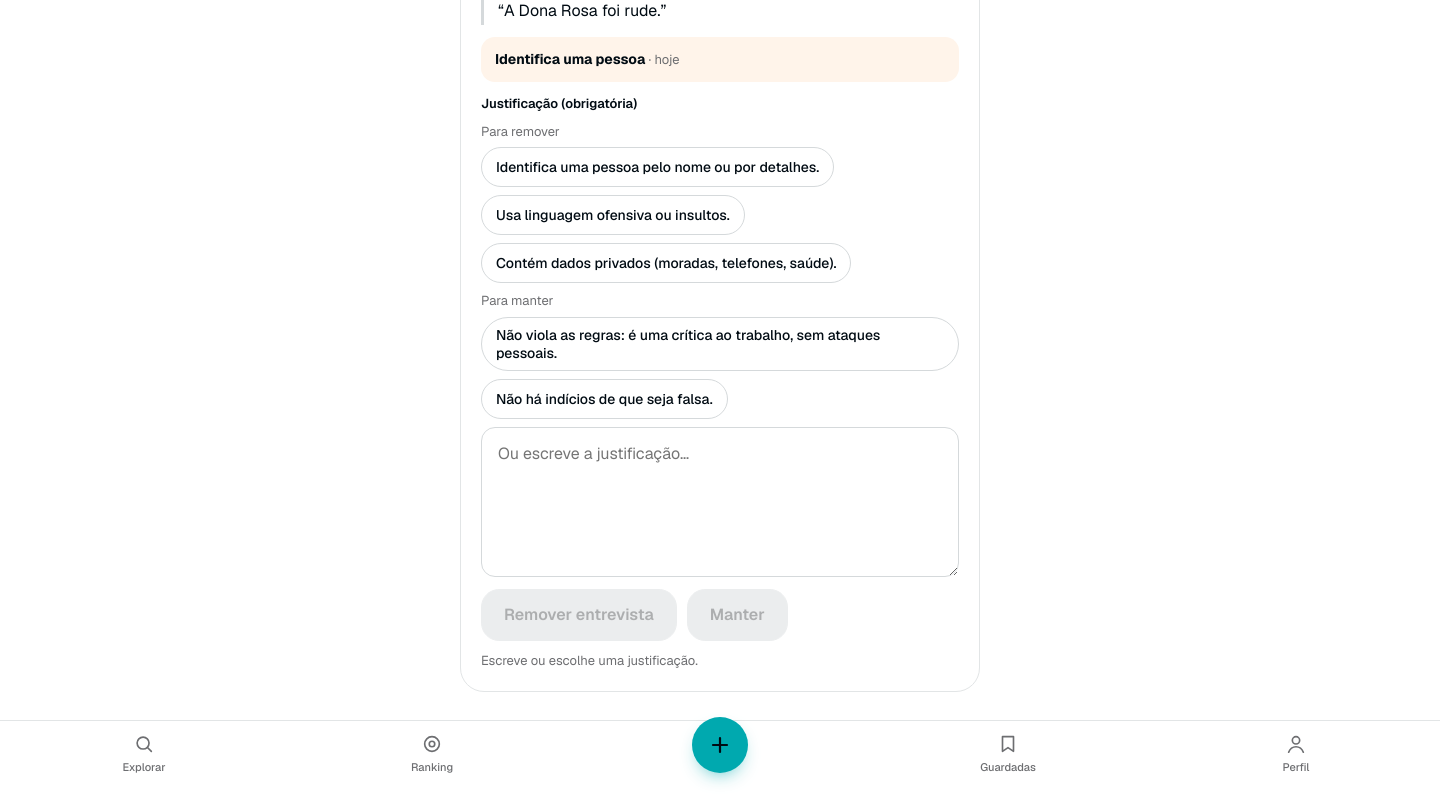
Test: Moderação, modo API (mobile) › entrevistas denunciadas: com a função, e a decisão vai para a entrevista
(page scrolled)
Type "Identifica uma pessoa pelo nome." into the text box.
click(720, 502); type("Identifica uma pessoa pelo nome.")  # box x1=481 y1=427 x2=959 y2=577
(page scrolled)
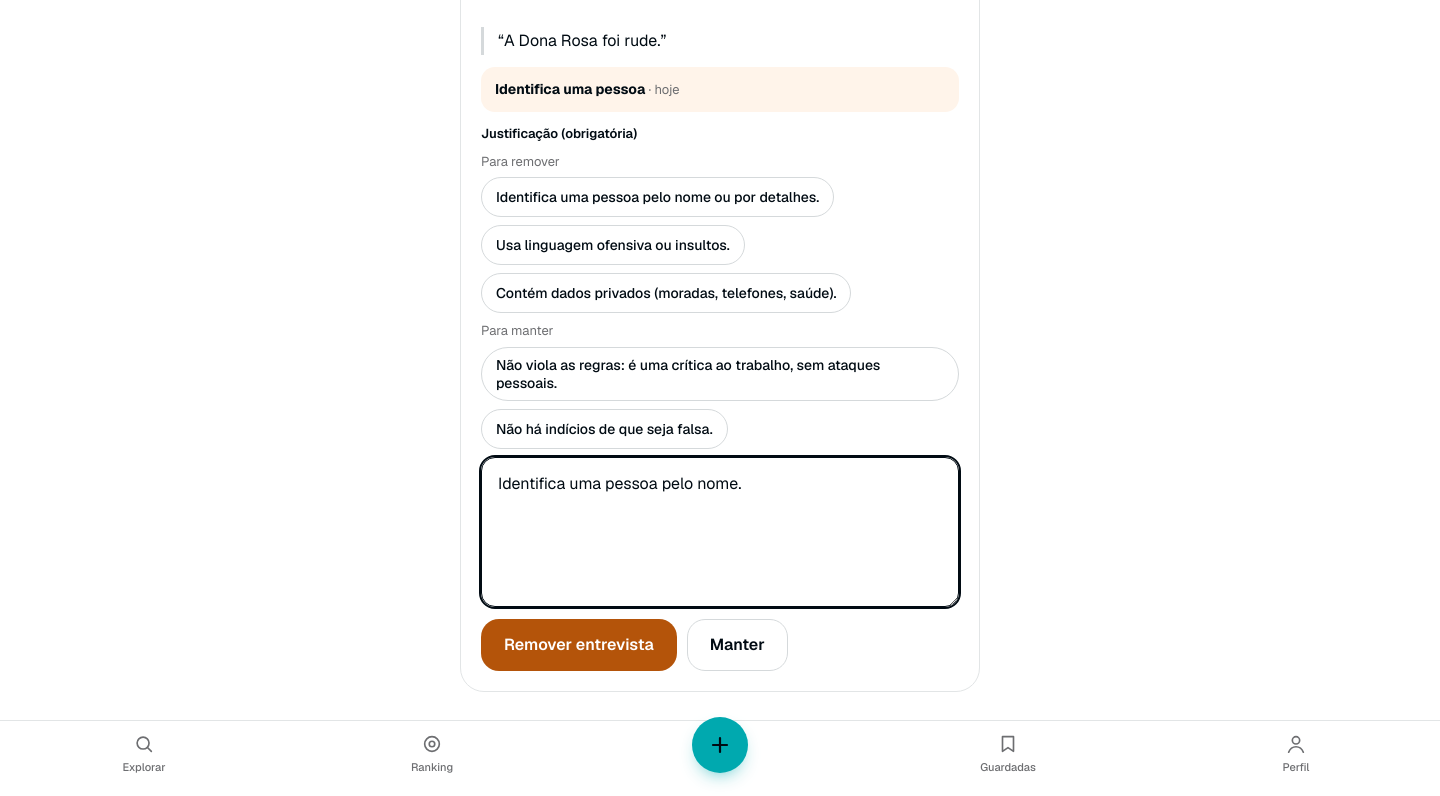
Click the button "Remover entrevista".
click(579, 645)  # box x1=481 y1=619 x2=677 y2=671
(page scrolled)
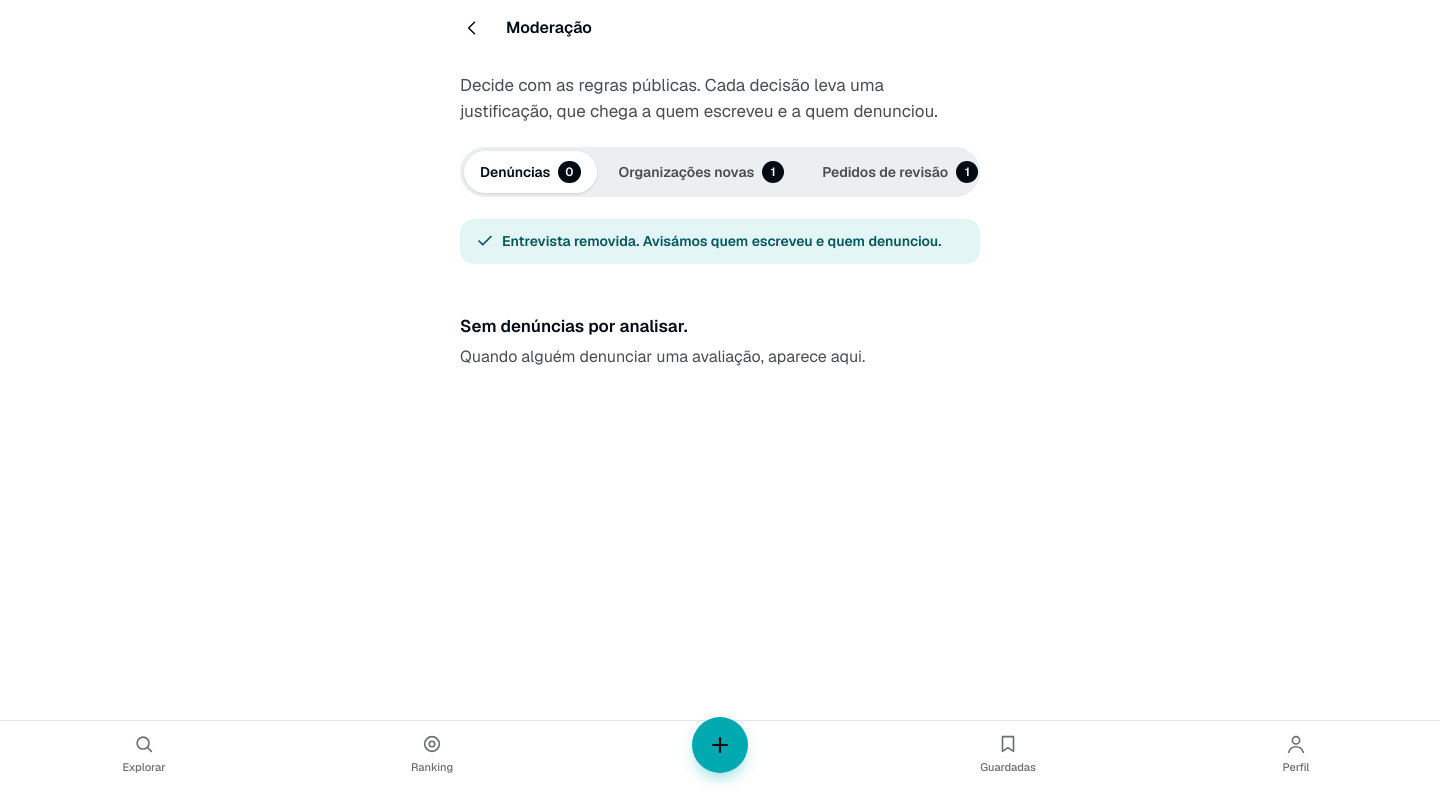
Result: the text "Entrevista removida. Avisámos quem escreveu e quem denunciou." is shown at x1=460 y1=219 x2=980 y2=264
